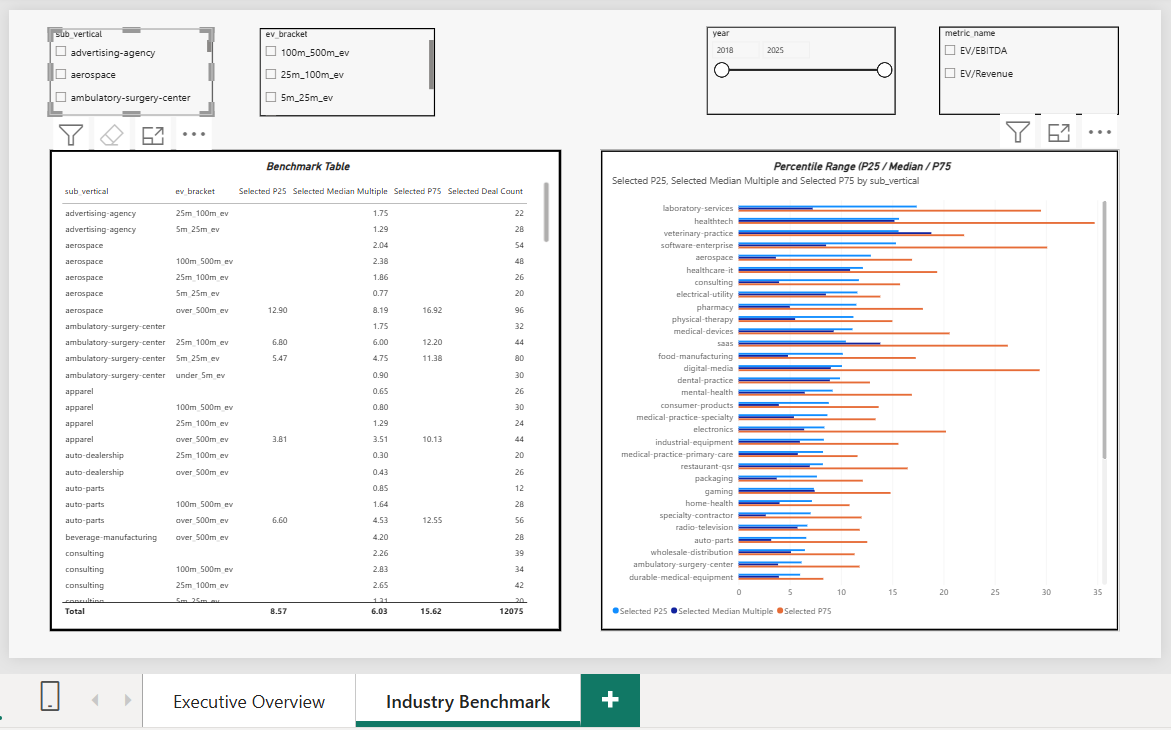

The page's visual inventory and layout, read from the dashboard file:
{"tool":"powerbi","page":{"name":"Industry Benchmark","canvas":[1920,1080],"ordinal":1},"visuals":[{"type":"slicer","fields":{"Values":["DimIndustry.sub_vertical"]},"box":[67.5,30,272.5,145],"z":0},{"type":"slicer","fields":{"Values":["DimEVBracket.ev_bracket"]},"box":[417.5,30,292.5,147.5],"z":1},{"type":"slicer","fields":{"Values":["DimYear.year"]},"box":[1162.5,27.5,315,147.5],"z":2},{"type":"slicer","fields":{"Values":["DimMetric.metric_name"]},"box":[1550,27.5,300,147.5],"z":3},{"type":"tableEx","title":"Benchmark Table","fields":{"Values":["DimIndustry.sub_vertical","DimEVBracket.ev_bracket","_Measures.Selected P25","_Measures.Selected Median Multiple","_Measures.Selected P75","_Measures.Selected Deal Count"]},"box":[67.5,232.5,852.5,802.5],"z":4},{"type":"clusteredBarChart","title":"Percentile Range (P25 / Median / P75","fields":{"Category":["DimIndustry.sub_vertical"],"Y":["_Measures.Selected P25","_Measures.Selected Median Multiple","_Measures.Selected P75"]},"box":[985,232.5,865,802.5],"z":5}]}

Visuals, with their boxes in screenshot pixels (x1, y1, x2, y2):
slicer - DimIndustry.sub_vertical: BBox(47, 24, 211, 111)
slicer - DimEVBracket.ev_bracket: BBox(257, 24, 433, 113)
slicer - DimYear.year: BBox(705, 23, 895, 111)
slicer - DimMetric.metric_name: BBox(938, 23, 1119, 111)
"Benchmark Table" tableEx: BBox(47, 146, 559, 629)
"Percentile Range (P25 / Median / P75" clusteredBarChart: BBox(599, 146, 1119, 629)
